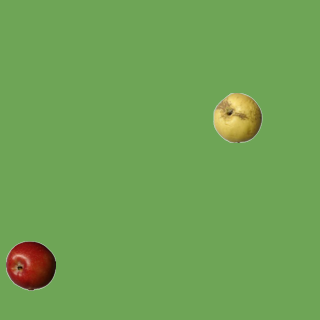Apple Braeburn: (5, 240, 55, 290)
Apple Golden 1: (212, 92, 262, 142)
